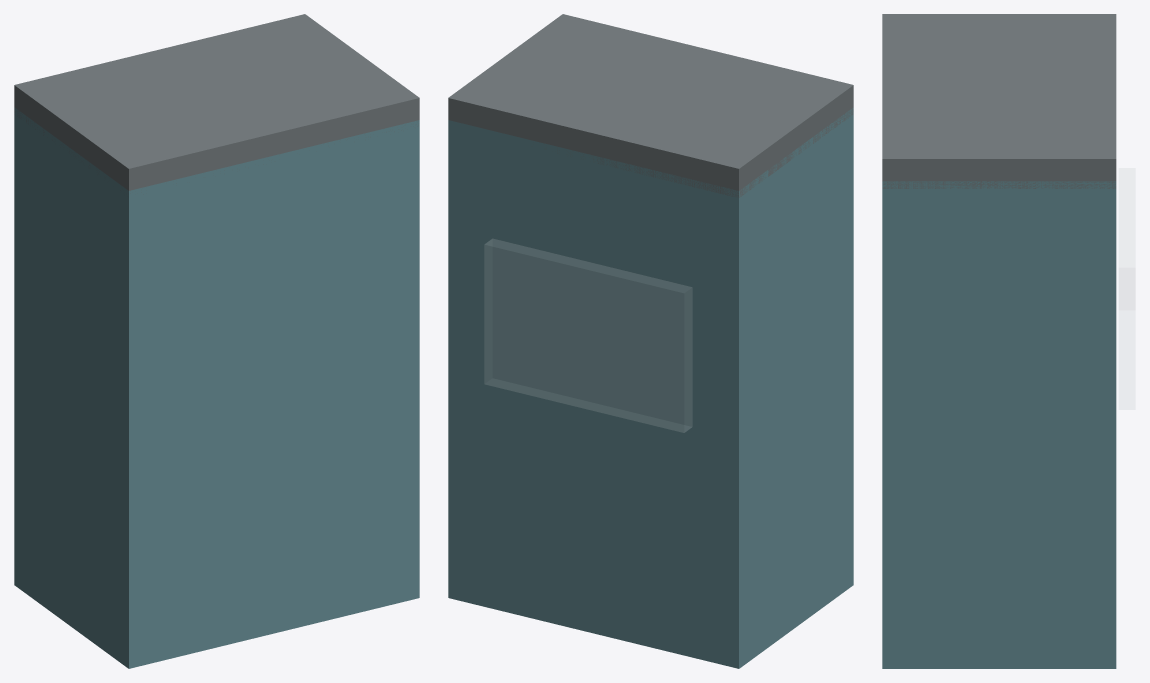
Rendered from iz2_mission_donation_locker.glb.
The picture shows the model from 3 angles, left to right: view 1: azimuth 30°, elevation 25°; view 2: azimuth 150°, elevation 25°; view 3: azimuth 270°, elevation 25°; orthographic projection. The views are drawn at different scales.
Visible parts, largest first — view 1: body, lid; view 2: body, lid, screen; view 3: body, lid, screen.
Boxes of the visible parts, box(x1,y1,x2,y2) form: body: box(14, 107, 419, 668); lid: box(14, 14, 419, 194); body: box(448, 108, 853, 668); lid: box(448, 14, 853, 197); screen: box(484, 239, 692, 432); body: box(882, 181, 1116, 668); lid: box(882, 14, 1116, 188); screen: box(1119, 168, 1135, 409).
Bounding box in the file's own units: 0.8178 × 1.34 × 0.6039.
